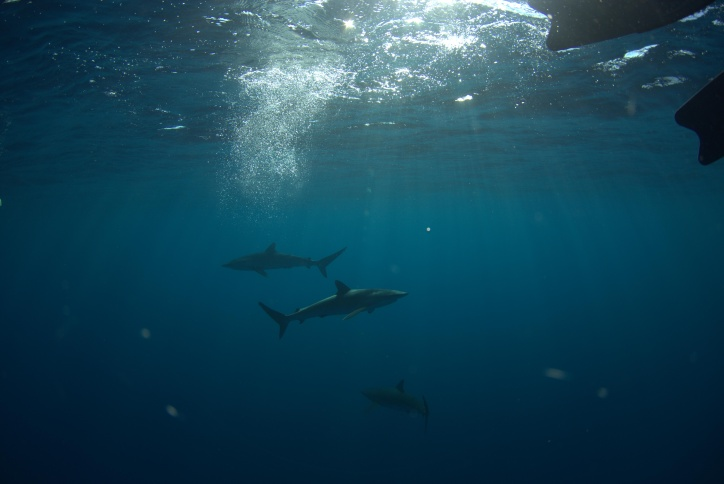Sedoso: (240, 276, 419, 338)
